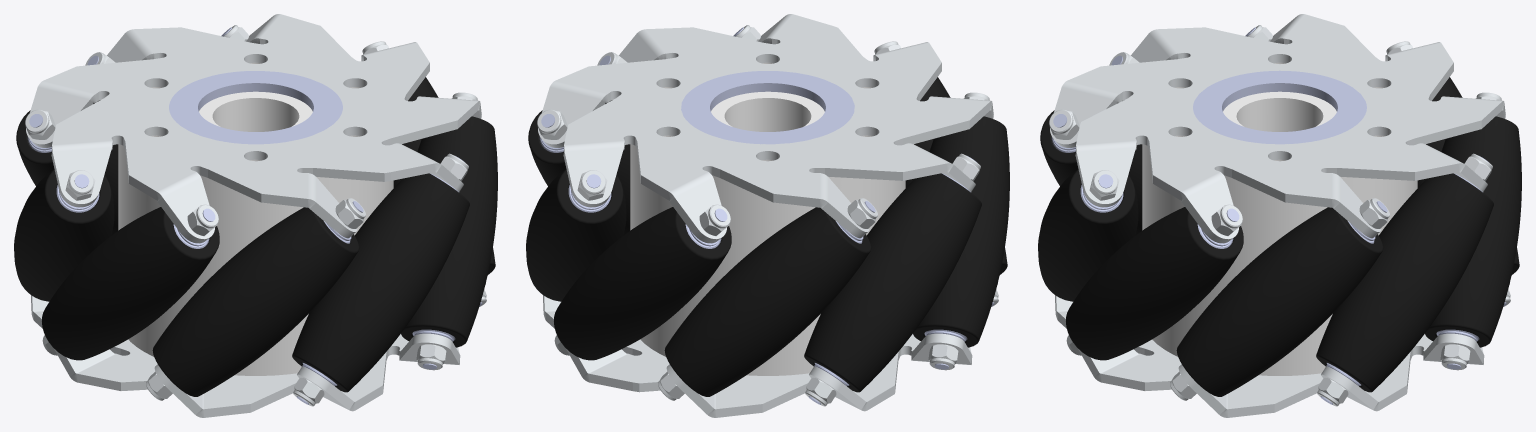
File: Nexus 100mm Left Mecanum Wheel v1.fbx
3 renders of one model, left to right at view 1: azimuth 30°, elevation 25°; view 2: azimuth 150°, elevation 25°; view 3: azimuth 270°, elevation 25°, orthographic.
Visible parts, largest first — view 1: Body1 (×16), Body4 (×2), Body2, Body3; view 2: Body1 (×16), Body4 (×2), Body2, Body3; view 3: Body1 (×16), Body4 (×2), Body2, Body3.
Part boxes in pixels (x1=…): Body1 (×16): x1=14, y1=62, x2=497, y2=406; Body4 (×2): x1=26, y1=14, x2=485, y2=417; Body2: x1=188, y1=79, x2=323, y2=135; Body3: x1=178, y1=75, x2=333, y2=140; Body1 (×16): x1=526, y1=62, x2=1009, y2=406; Body4 (×2): x1=538, y1=14, x2=997, y2=417; Body2: x1=700, y1=79, x2=835, y2=135; Body3: x1=690, y1=75, x2=845, y2=140; Body1 (×16): x1=1038, y1=62, x2=1521, y2=406; Body4 (×2): x1=1050, y1=14, x2=1509, y2=417; Body2: x1=1212, y1=79, x2=1347, y2=136; Body3: x1=1202, y1=75, x2=1357, y2=140.
Bounding box in the file's own units: 100 × 49.99 × 100.
